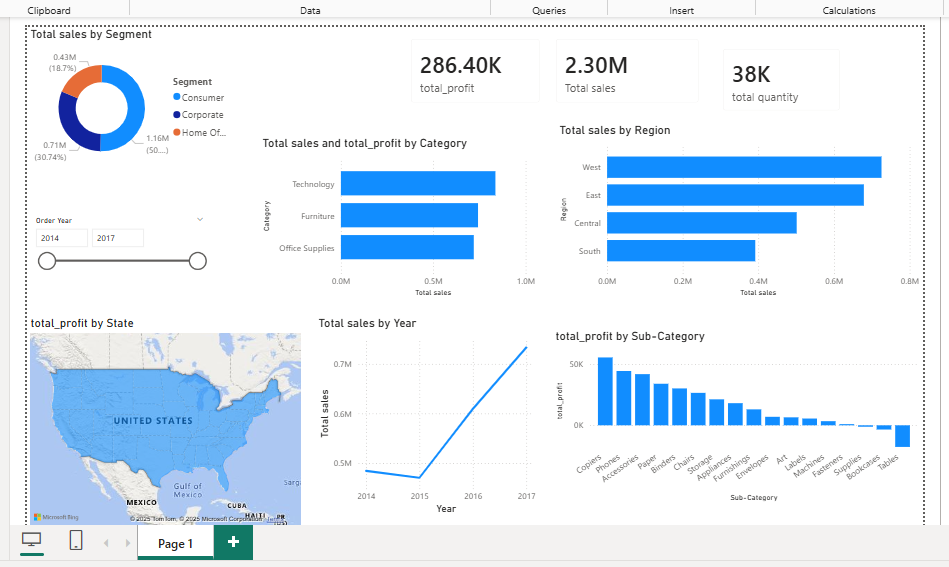

The page's visual inventory and layout, read from the dashboard file:
{"tool":"powerbi","page":{"name":"Page 1","canvas":[1280,720],"ordinal":0},"visuals":[{"type":"cardVisual","fields":{"Data":["Table1_3.Total sales"]},"box":[739.1,0,238.5,126],"z":0},{"type":"cardVisual","fields":{"Data":["Table1_3.total_profit"]},"box":[530.8,0,218.4,126],"z":1000},{"type":"cardVisual","fields":{"Data":["Table1_3.total quantity"]},"box":[977.1,14.3,201.4,122.9],"z":2000},{"type":"clusteredBarChart","fields":{"Category":["Table1_3.Category"],"Y":["Table1_3.Total sales"]},"box":[331.4,155.7,400,234.3],"z":3000},{"type":"clusteredColumnChart","fields":{"Category":["Table1_3.Sub-Category"],"Y":["Table1_3.total_profit"]},"box":[750,431.4,527.1,251.4],"z":4000},{"type":"lineChart","fields":{"Category":["Table1_3.Order Month-Year.Variation.Date Hierarchy.Year","Table1_3.Order Month-Year.Variation.Date Hierarchy.Quarter","Table1_3.Order Month-Year.Variation.Date Hierarchy.Month","Table1_3.Order Month-Year.Variation.Date Hierarchy.Day"],"Y":["Table1_3.Total sales"]},"box":[411.4,412.9,320,288.6],"z":5000},{"type":"barChart","fields":{"Category":["Table1_3.Region"],"Y":["Table1_3.Total sales"]},"box":[755.7,137.1,524.3,252.9],"z":6000},{"type":"donutChart","fields":{"Category":["Table1_3.Segment"],"Y":["Table1_3.Total sales"]},"box":[0,0,301.4,212.9],"z":7000},{"type":"slicer","fields":{"Values":["Table1_3.Order Year"]},"box":[0,265,265,103.7],"z":8000},{"type":"filledMap","fields":{"Category":["Table1_3.State"]},"box":[0,412.9,397.1,307.1],"z":9000}]}

Visuals, with their boxes on the page's 1280x720 design canvas (x1, y1, x2, y2). These are canvas units, not pixel positions in the 949x567 screenshot, which may show the page scaled, cropped or inside an application window:
cardVisual - Table1_3.Total sales: left=739, top=0, right=978, bottom=126
cardVisual - Table1_3.total_profit: left=531, top=0, right=749, bottom=126
cardVisual - Table1_3.total quantity: left=977, top=14, right=1178, bottom=137
clusteredBarChart - Table1_3.Category x Table1_3.Total sales: left=331, top=156, right=731, bottom=390
clusteredColumnChart - Table1_3.Sub-Category x Table1_3.total_profit: left=750, top=431, right=1277, bottom=683
lineChart - Table1_3.Order Month-Year.Variation.Date Hierarchy.Year x Table1_3.Order Month-Year.Variation.Date Hierarchy.Quarter: left=411, top=413, right=731, bottom=702
barChart - Table1_3.Region x Table1_3.Total sales: left=756, top=137, right=1280, bottom=390
donutChart - Table1_3.Segment x Table1_3.Total sales: left=0, top=0, right=301, bottom=213
slicer - Table1_3.Order Year: left=0, top=265, right=265, bottom=369
filledMap - Table1_3.State: left=0, top=413, right=397, bottom=720
